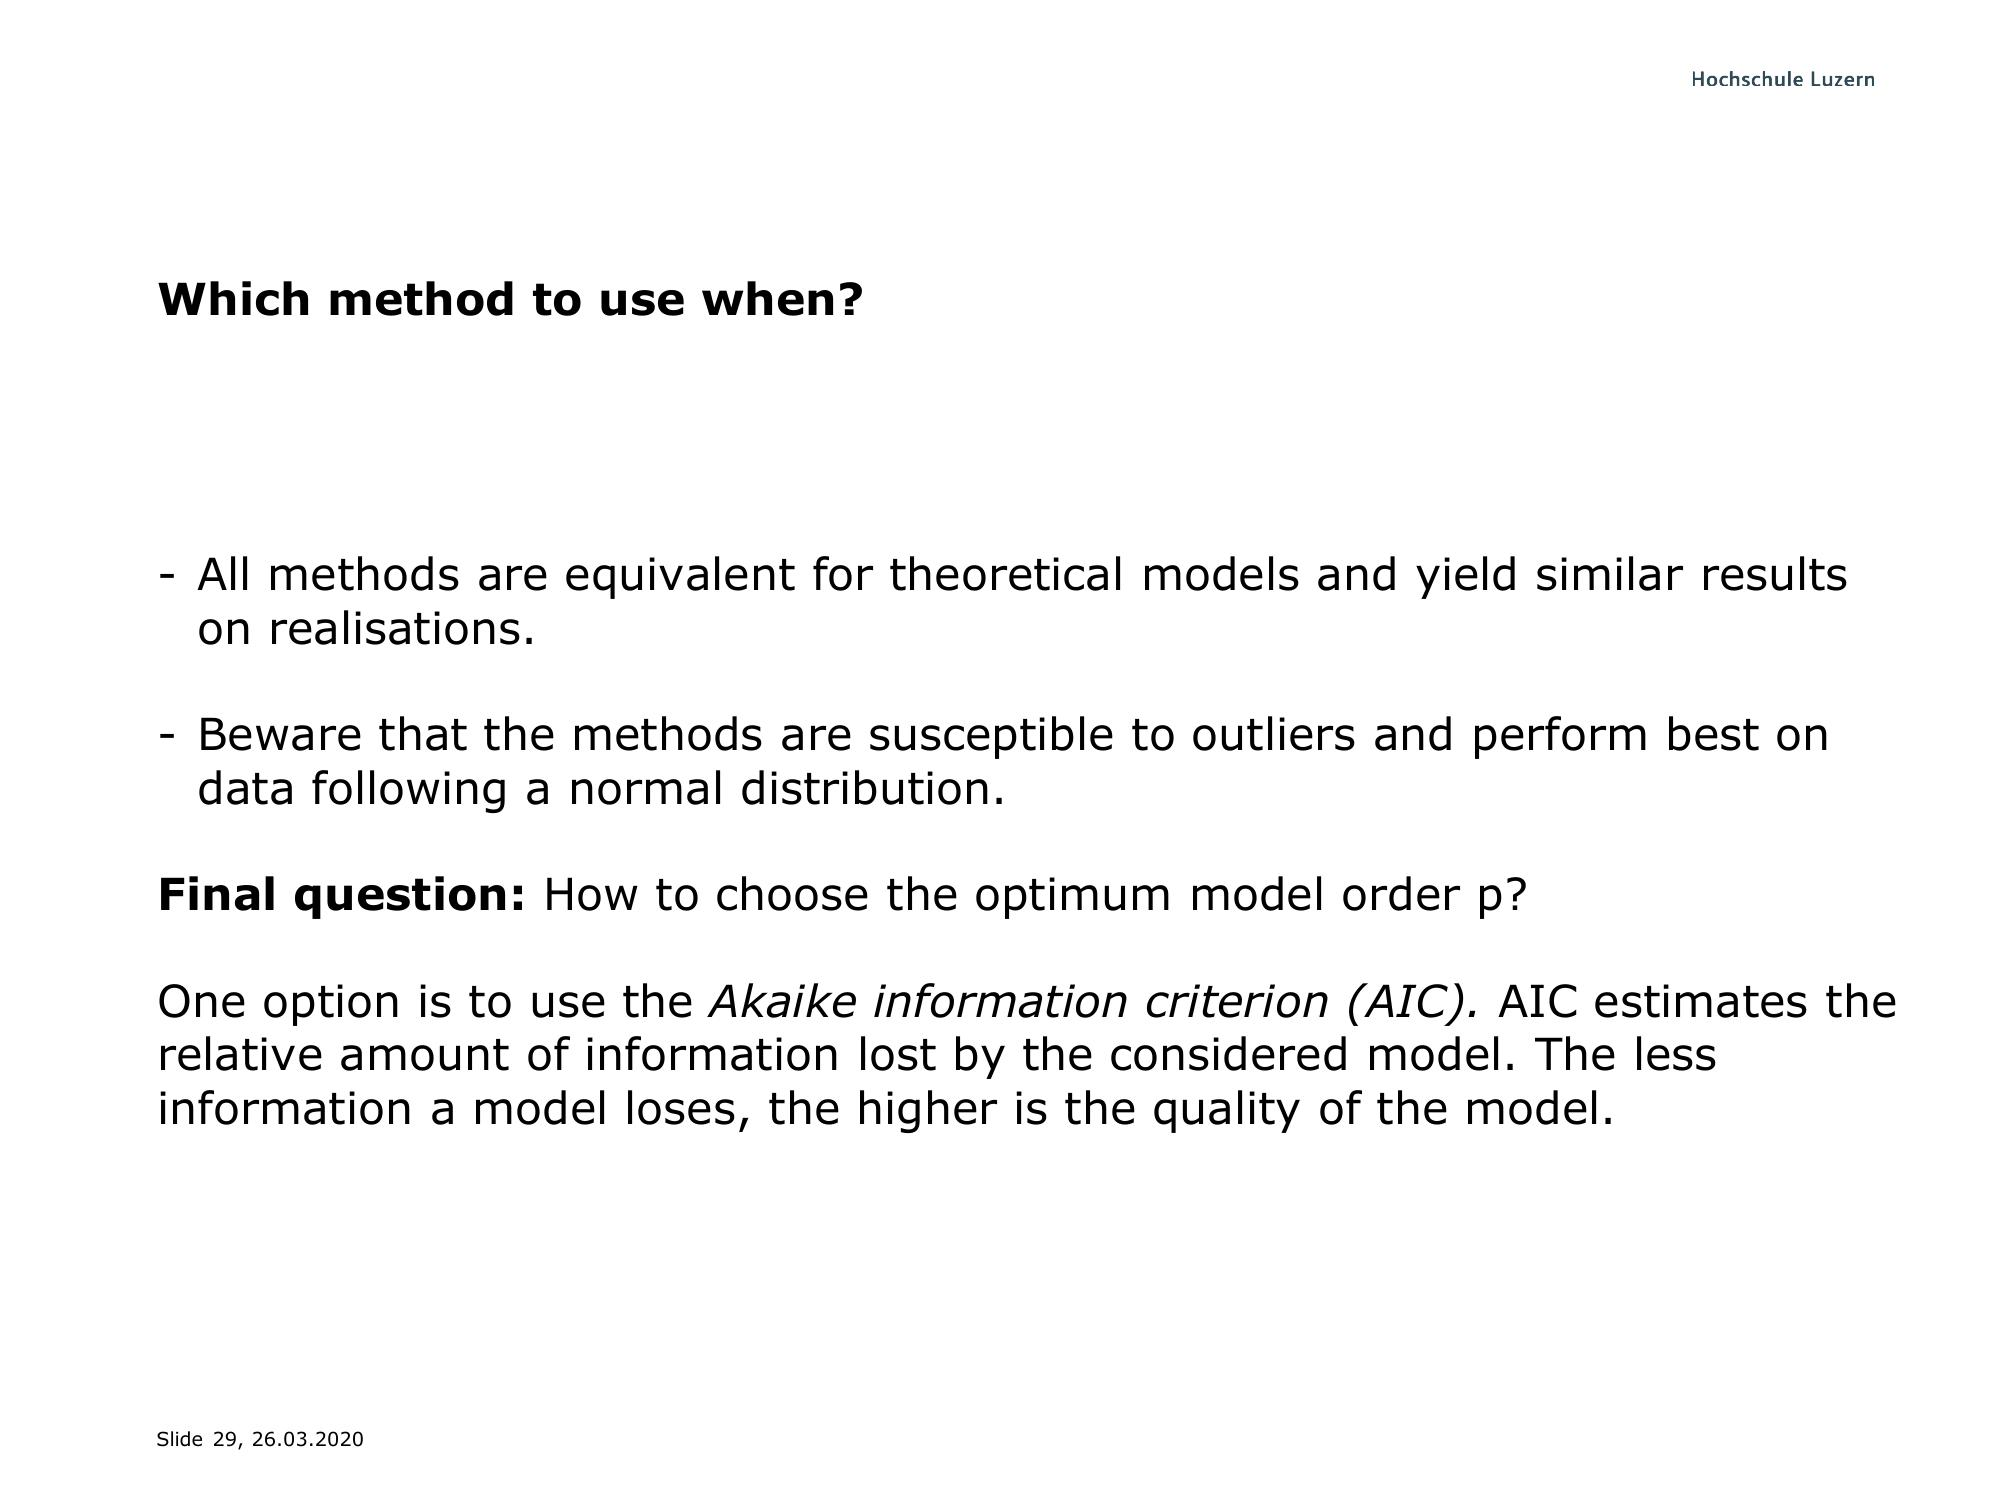Title: (117, 266, 880, 339)
